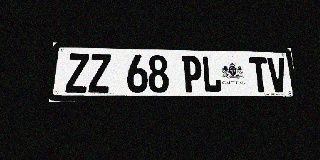6: (127, 54, 148, 93)
8: (148, 55, 169, 93)
L: (201, 56, 222, 93)
P: (182, 56, 203, 93)
T: (249, 57, 270, 92)
V: (267, 57, 288, 92)
Z: (65, 53, 89, 93), (88, 54, 111, 93)
